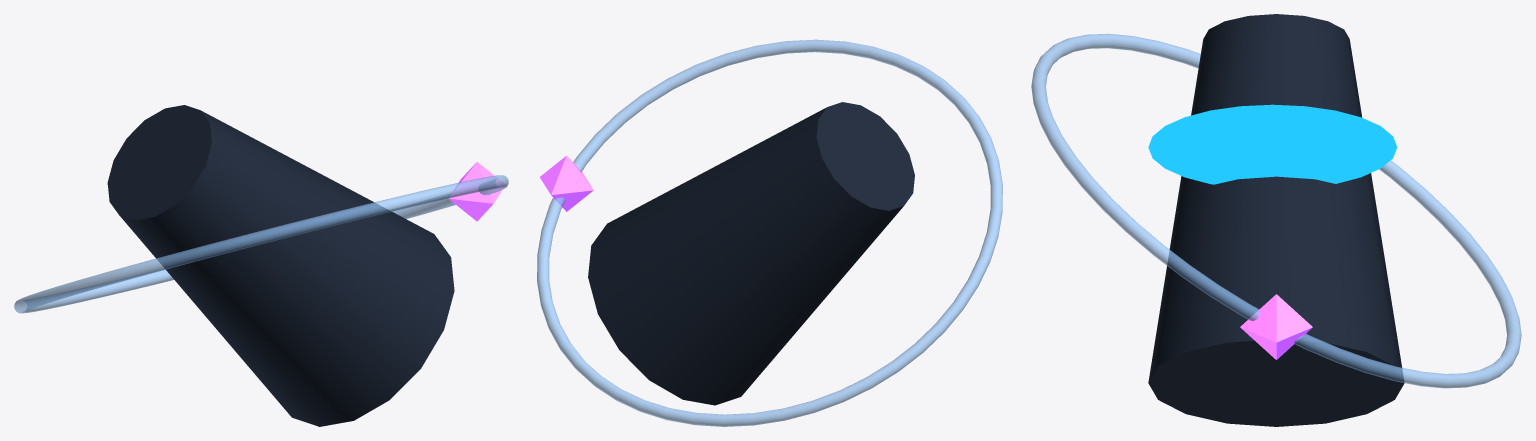
Rendered from explore.glb.
The picture shows the model from 3 angles, left to right: view 1: azimuth 30°, elevation 25°; view 2: azimuth 150°, elevation 25°; view 3: azimuth 270°, elevation 25°; orthographic projection. The views are drawn at different scales.
Visible parts, largest first — view 1: telescope, object 2, object 3; view 2: telescope, object 2, object 3; view 3: telescope, object 2, object 3.
Part boxes in pixels (left/top/right/bottom): telescope: left=107, top=105, right=454, bottom=426; object 2: left=14, top=175, right=508, bottom=313; object 3: left=448, top=162, right=505, bottom=221; telescope: left=588, top=102, right=914, bottom=405; object 2: left=537, top=39, right=1002, bottom=426; object 3: left=540, top=155, right=593, bottom=211; telescope: left=1148, top=14, right=1404, bottom=426; object 2: left=1031, top=33, right=1521, bottom=388; object 3: left=1240, top=294, right=1312, bottom=359.
Bounding box in the file's own units: 1.62 × 1.2 × 1.34.
